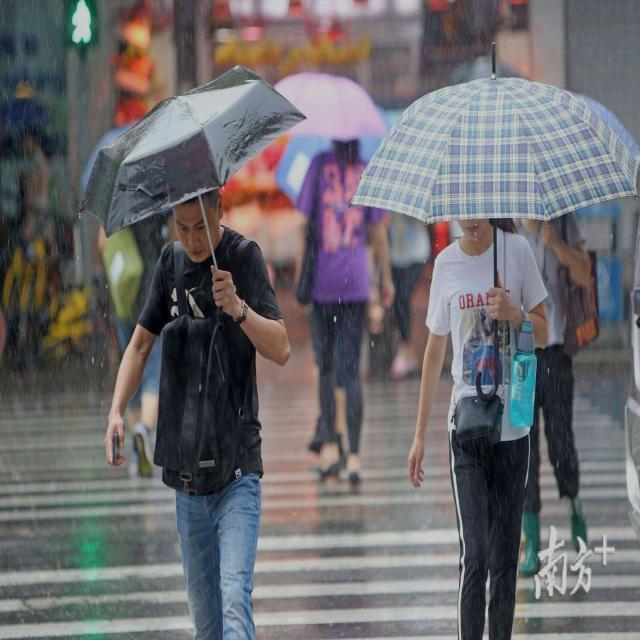non-fight: (95, 175, 299, 638), (402, 221, 604, 638)
